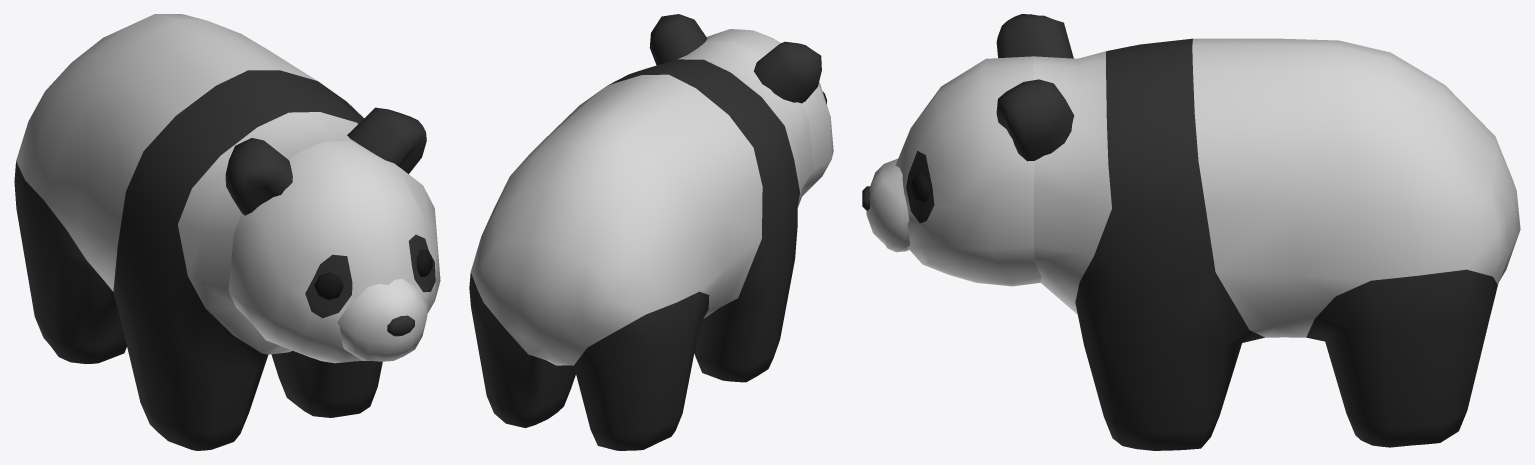
The model's file is Panda_01.fbx.
3 views of the same model, side by side, from view 1: azimuth 30°, elevation 25°; view 2: azimuth 150°, elevation 25°; view 3: azimuth 270°, elevation 25° (orthographic). The views are drawn at different scales.
Visible parts, largest first — view 1: Panda_01; view 2: Panda_01; view 3: Panda_01.
Boxes of the visible parts, x1=… form: Panda_01: x1=14, y1=14, x2=440, y2=450; Panda_01: x1=469, y1=14, x2=833, y2=450; Panda_01: x1=862, y1=14, x2=1520, y2=450.
Bounding box in the file's own units: 0.2376 × 0.3193 × 0.5243.
